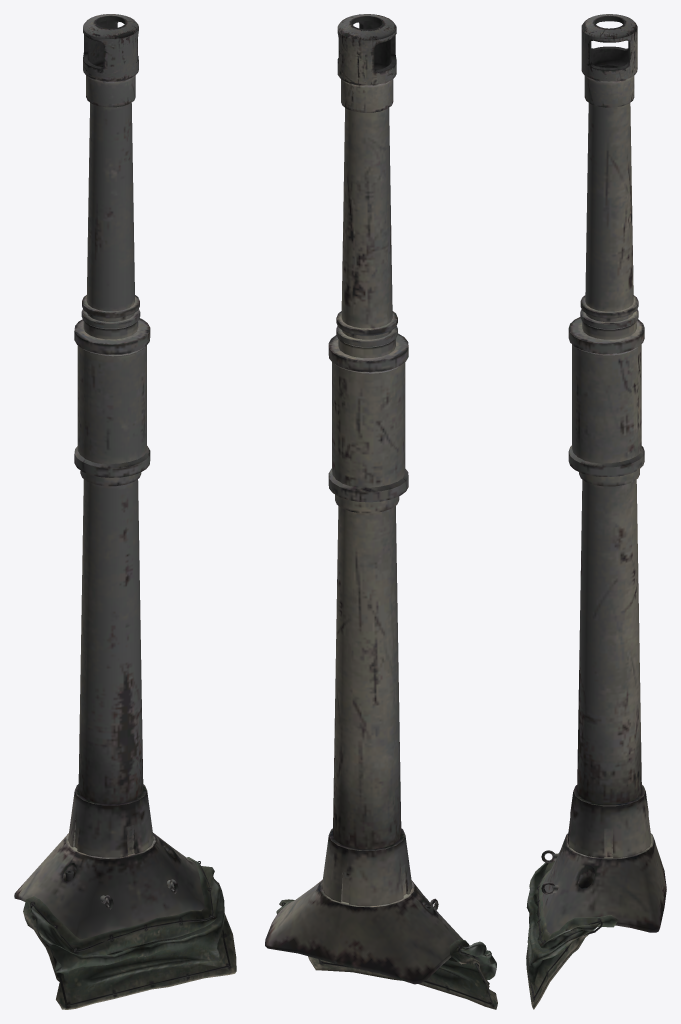
Rendered from Gun_01.glb.
3 views of the same model, side by side, from view 1: azimuth 30°, elevation 25°; view 2: azimuth 150°, elevation 25°; view 3: azimuth 270°, elevation 25° (orthographic). The views are drawn at different scales.
Parts seen in each view (by area): view 1: set_0_group_0; view 2: set_0_group_0; view 3: set_0_group_0.
Part boxes in pixels (<box>): set_0_group_0: <box>14,14,236,1009</box>; set_0_group_0: <box>265,14,497,1009</box>; set_0_group_0: <box>526,14,666,1009</box>.
Bounding box in the file's own units: 0.7367 × 3.62 × 0.4877.
Materials: 1 (1 with a texture image).
